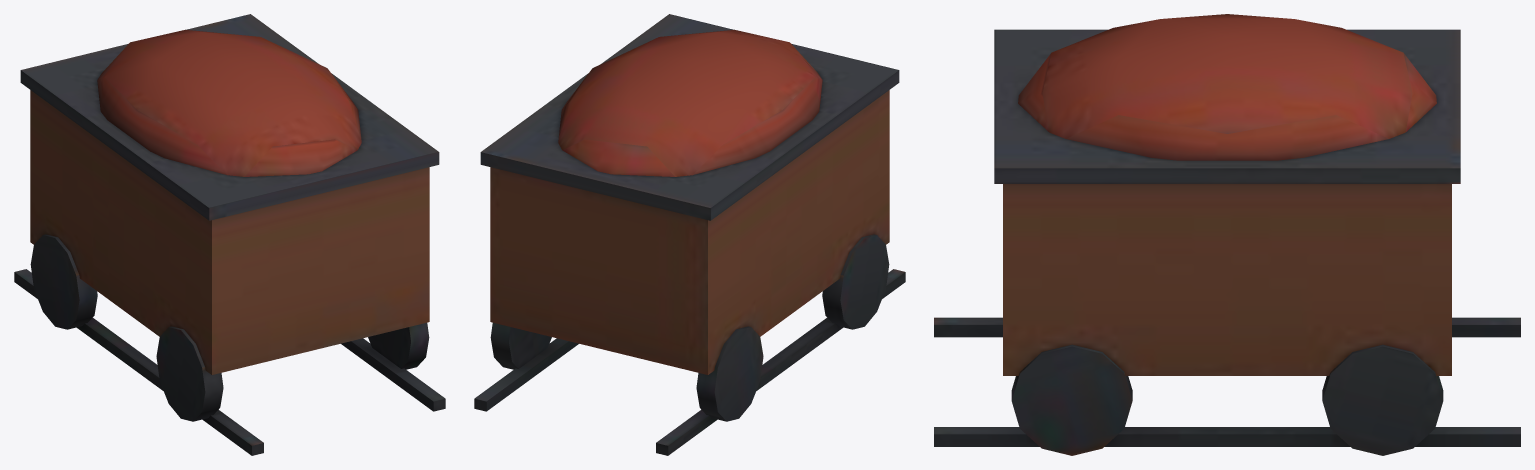
The model's file is vagoneta_mineral.glb.
3 views of the same model, side by side, from view 1: azimuth 30°, elevation 25°; view 2: azimuth 150°, elevation 25°; view 3: azimuth 270°, elevation 25° (orthographic). The views are drawn at different scales.
Visible parts, largest first — view 1: vagoneta_mineral; view 2: vagoneta_mineral; view 3: vagoneta_mineral.
Boxes of the visible parts, x1,y1,x2,y2 form: vagoneta_mineral: (14,14,445,455); vagoneta_mineral: (474,14,905,455); vagoneta_mineral: (934,14,1520,455).
Bounding box in the file's own units: 1.9 × 2.25 × 3.4.
Materials: 1 (1 with a texture image).
